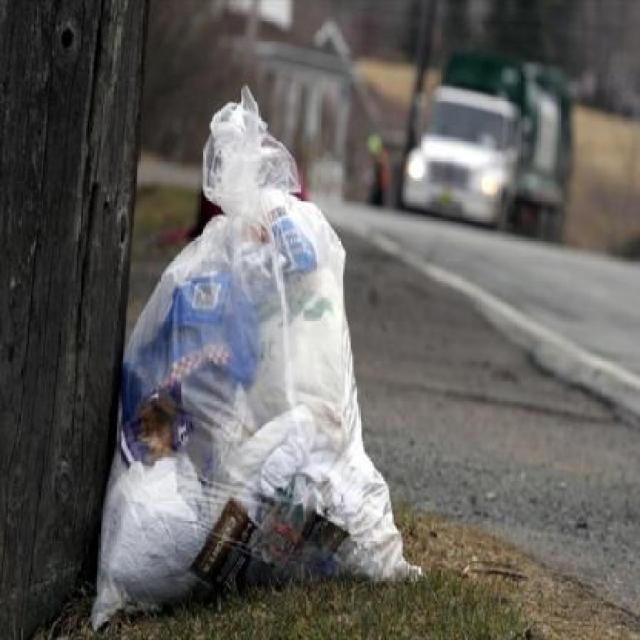garbage: (116, 134, 366, 582)
